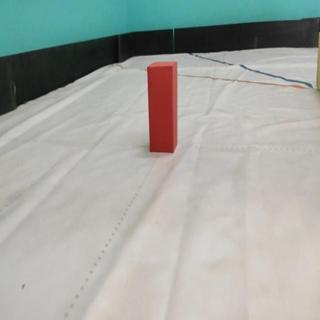redbox: (147, 61, 176, 154)
